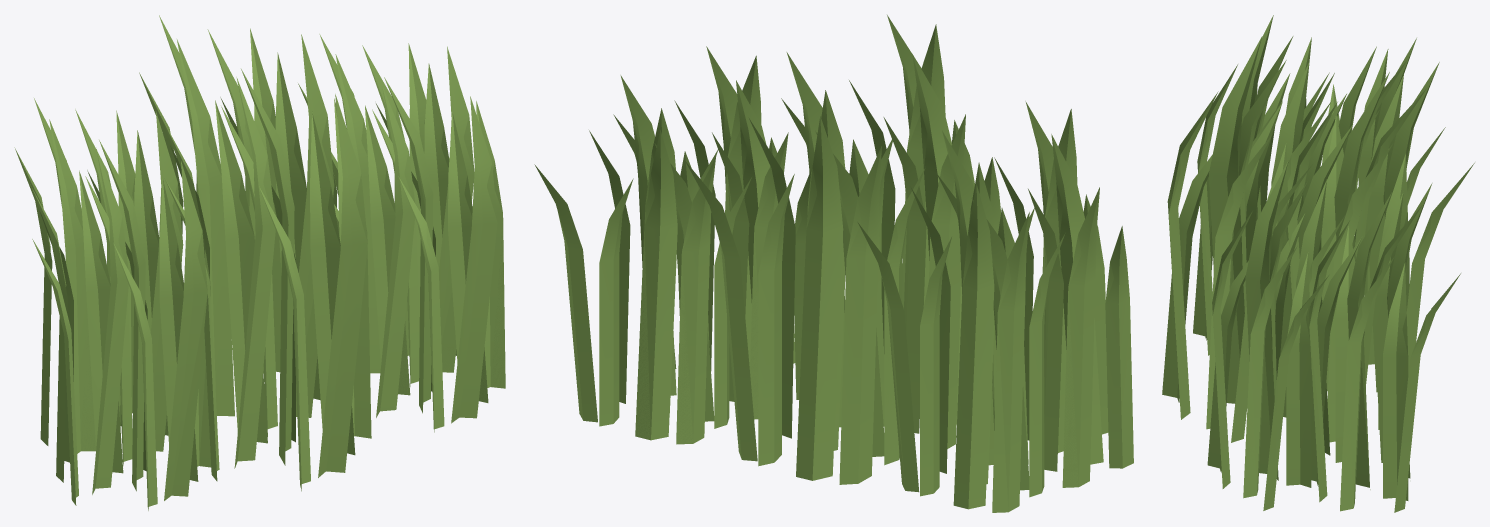
The model's file is reed-big.glb.
3 renders of one model, left to right at view 1: azimuth 30°, elevation 25°; view 2: azimuth 150°, elevation 25°; view 3: azimuth 270°, elevation 25°, orthographic. The views are drawn at different scales.
Visible parts, largest first — view 1: pPlane100; view 2: pPlane100; view 3: pPlane100.
Boxes of the visible parts, left/top/right/bottom form: pPlane100: left=14, top=15, right=505, bottom=510; pPlane100: left=534, top=15, right=1133, bottom=512; pPlane100: left=1162, top=15, right=1474, bottom=512.
Bounding box in the file's own units: 5.45 × 4.3 × 3.42.
